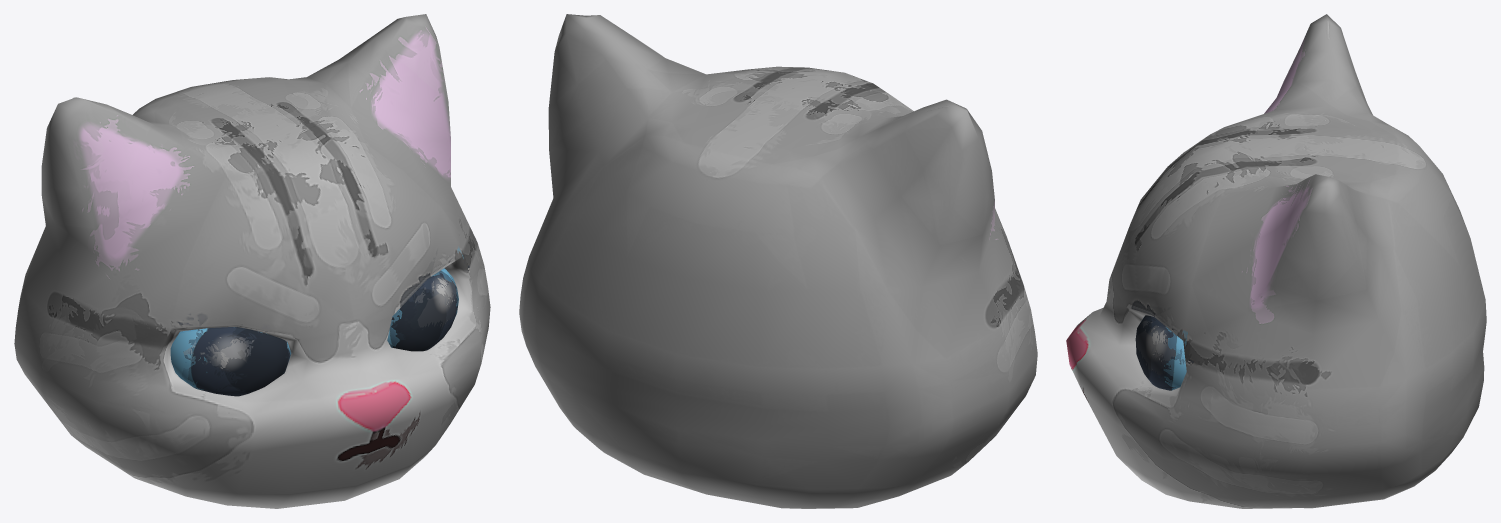
Rendered from Callie.fbx.
3 views of the same model, side by side, from view 1: azimuth 30°, elevation 25°; view 2: azimuth 150°, elevation 25°; view 3: azimuth 270°, elevation 25° (orthographic). The views are drawn at different scales.
Visible parts, largest first — view 1: Callie; view 2: Callie; view 3: Callie.
Part boxes in pixels (x1=…): Callie: x1=14, y1=14, x2=490, y2=508; Callie: x1=519, y1=14, x2=1037, y2=508; Callie: x1=1066, y1=14, x2=1486, y2=508.
Bounding box in the file's own units: 116 × 99.97 × 104.
